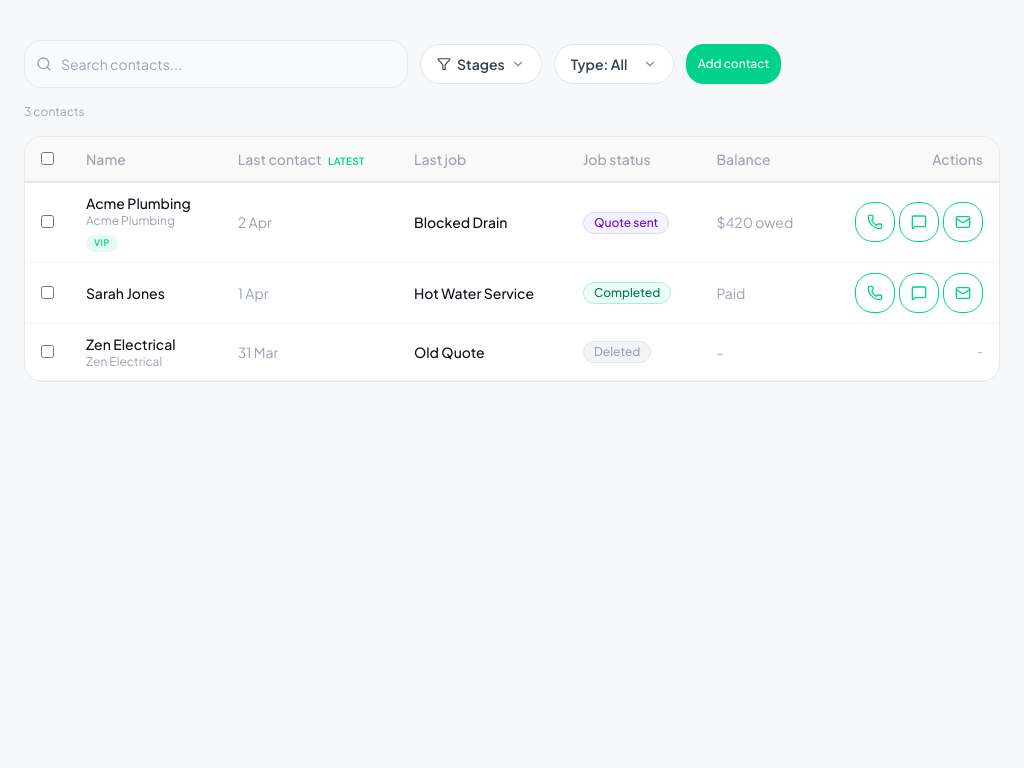
Test: ContactsClient › filters contacts by search, type, and selected stages
Check: the text "3 contacts" is shown, box [24,104,85,119]
Check: the link "Acme Plumbing" is shown, box [86,194,191,212]
In the field with placeholder "Search contacts...": (216, 64) [24,40,408,88], type "drain"
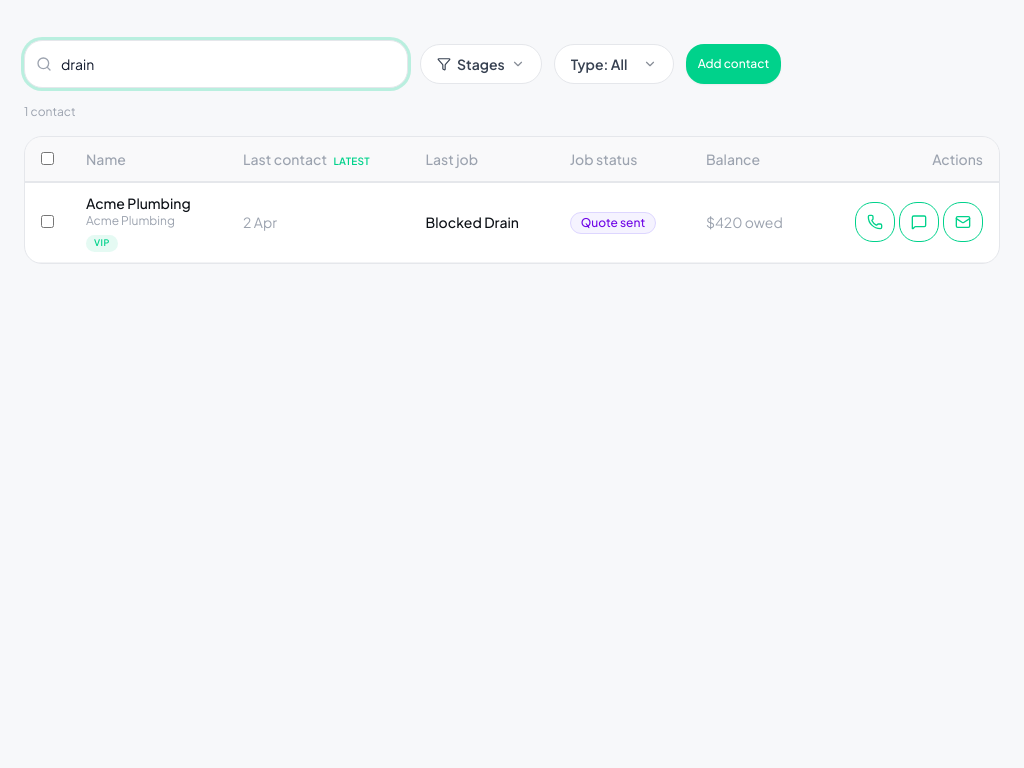
Check: the link "Sarah Jones" is gone
Check: the link "Zen Electrical" is gone
Check: the text "1 contact" is shown, box [24,104,76,119]
Clear the field with placeholder "Search contacts...": (216, 64) [24,40,408,88]
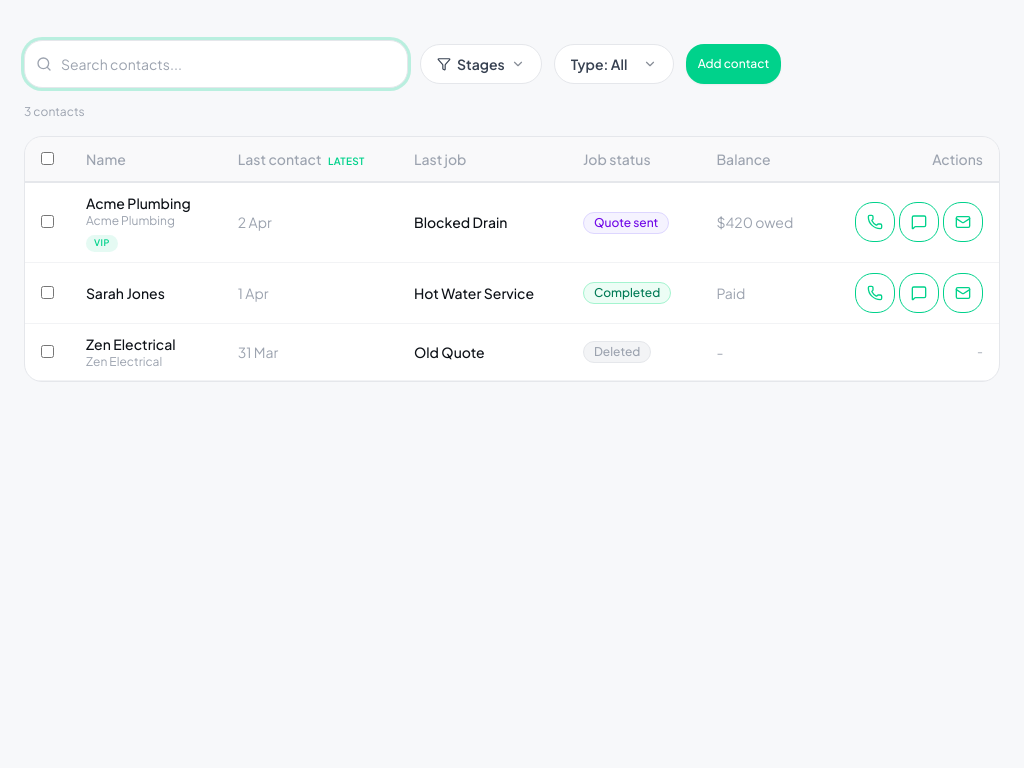
Click the button "Type: All": (614, 64) [554,44,674,84]
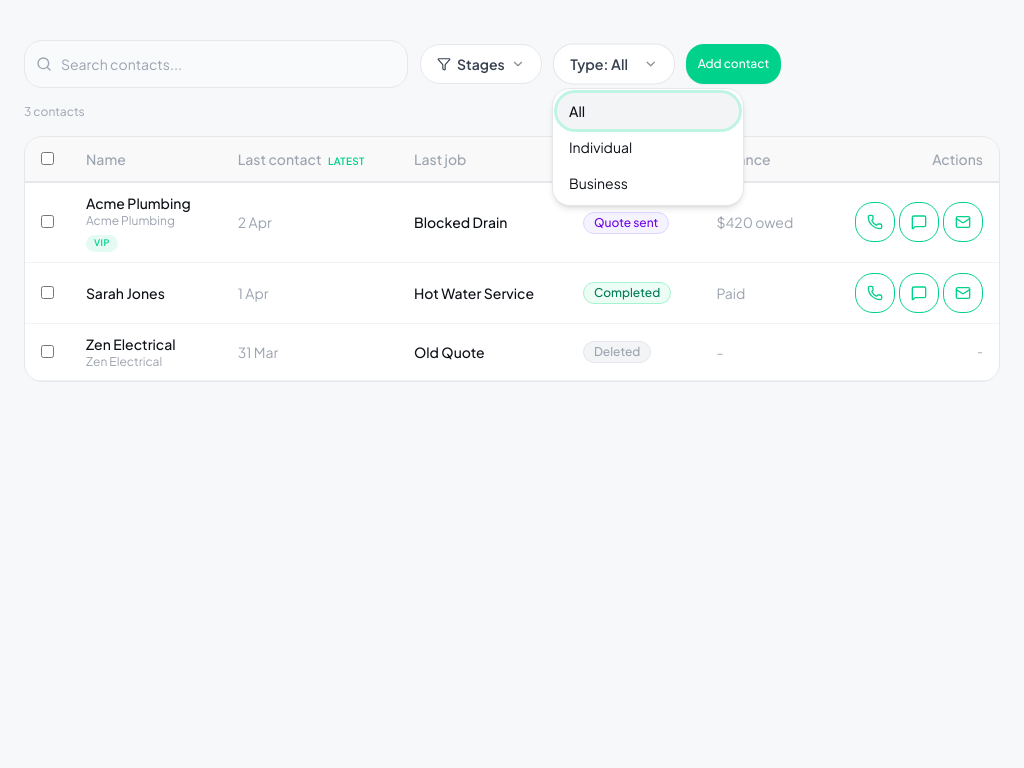
Click the button "Business": (648, 183) [557,165,739,201]
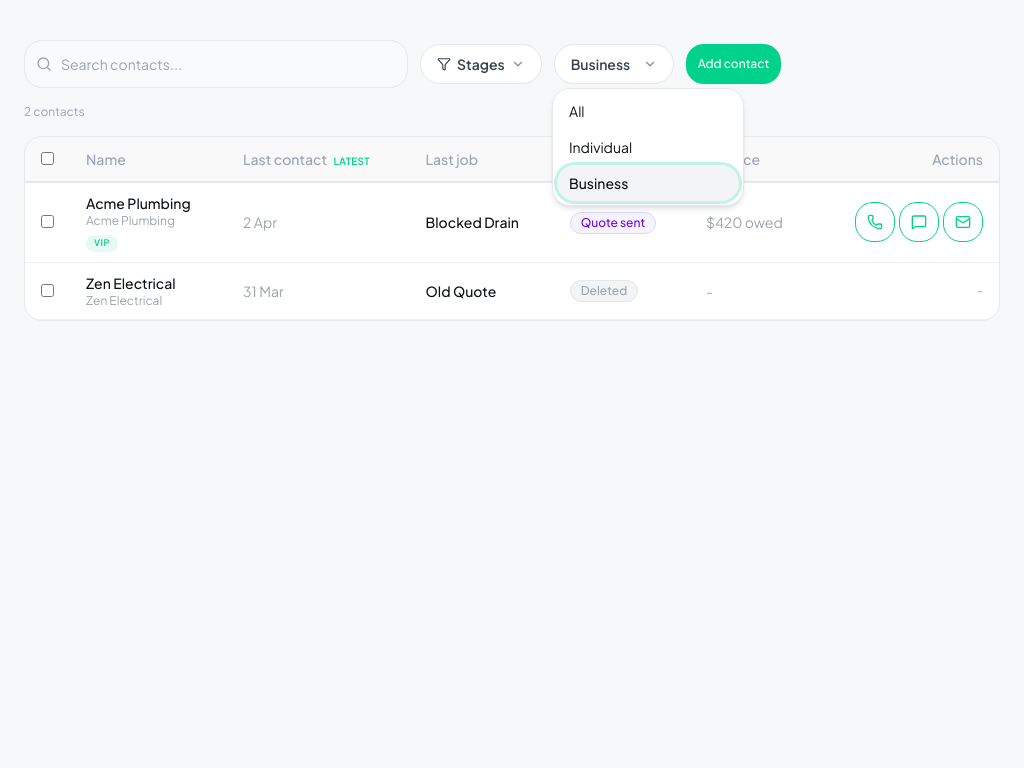
Check: the link "Acme Plumbing" is shown, box [86,194,191,212]
Check: the link "Zen Electrical" is shown, box [86,274,176,292]
Check: the link "Sarah Jones" is gone
Click the button "Stages": (481, 64) [420,44,542,84]
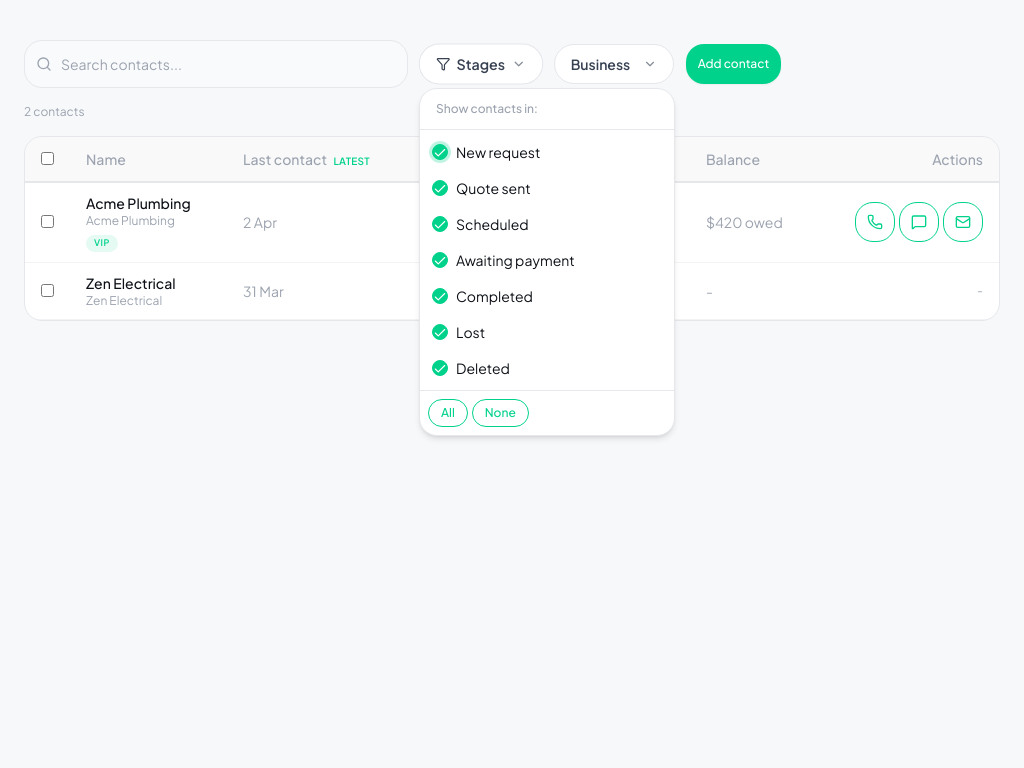
Click the button "None": (500, 413) [472,399,529,427]
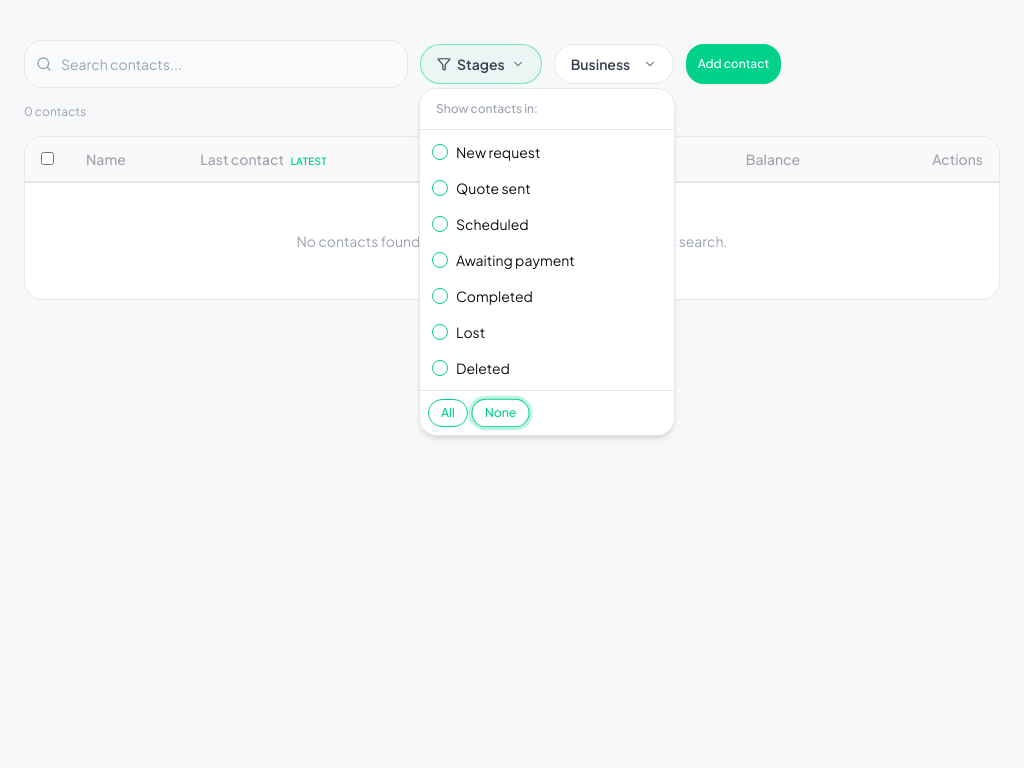
Check: the text "No contacts found. Add your first contact or try a different search." is shown, box [25,182,999,299]
